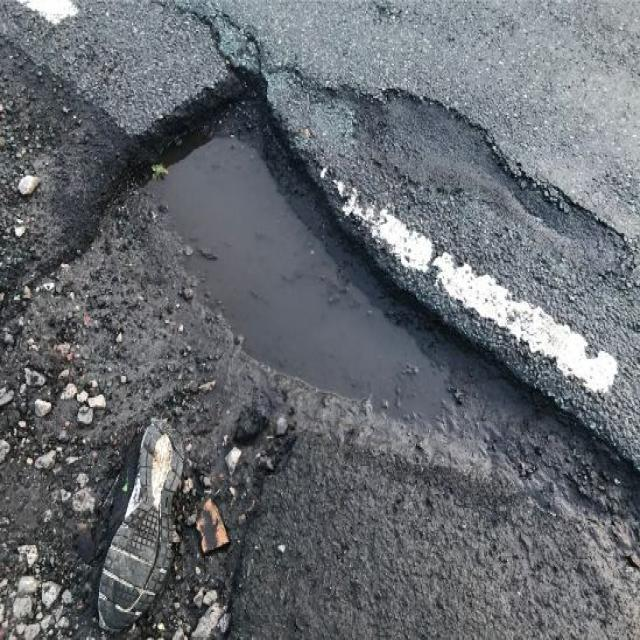pothole: (96, 60, 638, 512)
